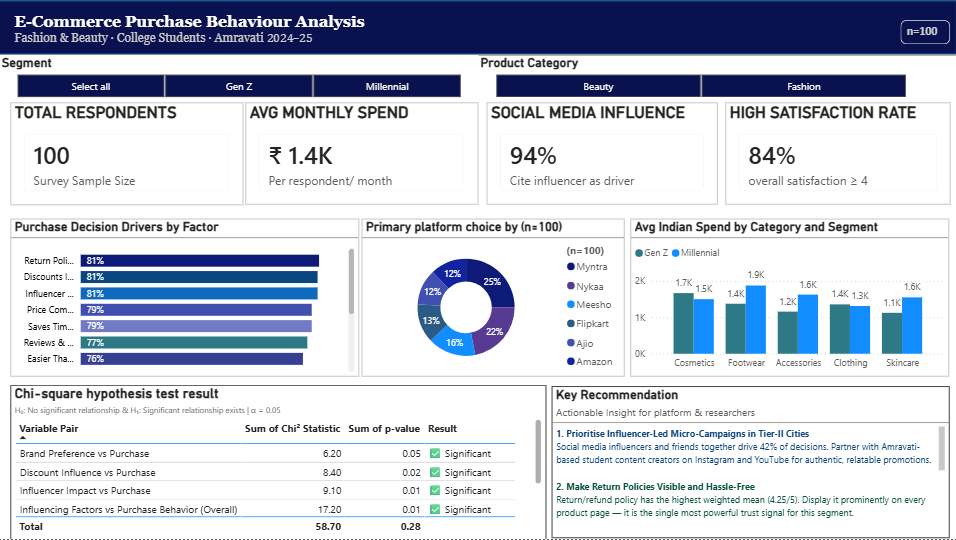

Layout of this report page (visuals, bound fields, positions):
{"tool":"powerbi","page":{"name":"Page 1","canvas":[1280,720],"ordinal":0},"visuals":[{"type":"shape","box":[0,0,1279.4,73.5],"z":0},{"type":"textbox","box":[16.2,11.8,927.9,61.8],"z":1000},{"type":"shape","box":[1202.9,26.5,66.2,32.4],"z":2000},{"type":"textbox","box":[1207.4,26.5,61.8,36.8],"z":3000},{"type":"slicer","title":"Segment","fields":{"Values":["Survey_Raw_Data.Segment"]},"box":[0,74.1,640.7,63],"z":4000},{"type":"slicer","title":"Product Category","fields":{"Values":["Survey_Raw_Data.category groupCustom"]},"box":[638.9,74.1,596.3,63],"z":5000},{"type":"cardVisual","title":"TOTAL RESPONDENTS","fields":{"Data":["Survey_Raw_Data.Total respondentsTotal Respondents"]},"box":[16.7,136.7,310,136.7],"z":6000},{"type":"cardVisual","title":"AVG MONTHLY SPEND","fields":{"Data":["Survey_Raw_Data.Average monthly spendAvg Monthly Spend"]},"box":[330,136,310,136],"z":7000},{"type":"cardVisual","title":"HIGH SATISFACTION RATE","fields":{"Data":["Survey_Raw_Data.High satisfaction rate (overall satisfaction ≥ 4)High Satisfaction %"]},"box":[970,136,300,136],"z":8000},{"type":"cardVisual","title":"SOCIAL MEDIA INFLUENCE","fields":{"Data":["Survey_Raw_Data.Social media influence % (influencer impact score ≥ 4)Social Media Influence %"]},"box":[652,136,308,136],"z":9000},{"type":"clusteredBarChart","fields":{"Category":["Likert_Scores.Factor"],"Y":["Likert_Scores.Driver Influence %"]},"box":[16.7,291.7,465,210],"z":10000},{"type":"donutChart","fields":{"Category":["Survey_Raw_Data.Platform_1st_Choice"],"Y":["CountNonNull(Survey_Raw_Data.Platform_1st_Choice)"]},"box":[485,291.7,350,210],"z":11000},{"type":"clusteredColumnChart","fields":{"Category":["Survey_Raw_Data.Product_Category_1st"],"Y":["Survey_Raw_Data.Average monthly spendAvg Monthly Spend"],"Series":["Survey_Raw_Data.Segment"]},"box":[843.3,291.7,425,210],"z":12000},{"type":"tableEx","title":"Chi-square hypothesis test result","fields":{"Values":["Chi_Square_Results.Variable Pair","Sum(Chi_Square_Results.Chi² Statistic)","Sum(Chi_Square_Results.p-value)","Chi_Square_Results.Result"]},"box":[16,514,714,206],"z":13000},{"type":"textbox","title":"Key Recommendation","box":[744,516,524,202],"z":14000}]}

Visuals, with their boxes in screenshot pixels (x1, y1, x2, y2), scaled from the page's 1280x720 canvas onto the 956x540 screenshot:
shape: 0,0,955,55
textbox: 12,9,705,55
shape: 898,20,948,44
textbox: 902,20,948,47
"Segment" slicer: 0,56,479,103
"Product Category" slicer: 477,56,923,103
"TOTAL RESPONDENTS" cardVisual: 12,103,244,205
"AVG MONTHLY SPEND" cardVisual: 246,102,478,204
"HIGH SATISFACTION RATE" cardVisual: 724,102,949,204
"SOCIAL MEDIA INFLUENCE" cardVisual: 487,102,717,204
clusteredBarChart - Likert_Scores.Factor x Likert_Scores.Driver Influence %: 12,219,360,376
donutChart - Survey_Raw_Data.Platform_1st_Choice x CountNonNull(Survey_Raw_Data.Platform_1st_Choice): 362,219,624,376
clusteredColumnChart - Survey_Raw_Data.Product_Category_1st x Survey_Raw_Data.Average monthly spendAvg Monthly Spend: 630,219,947,376
"Chi-square hypothesis test result" tableEx: 12,386,545,539
"Key Recommendation" textbox: 556,387,947,538
